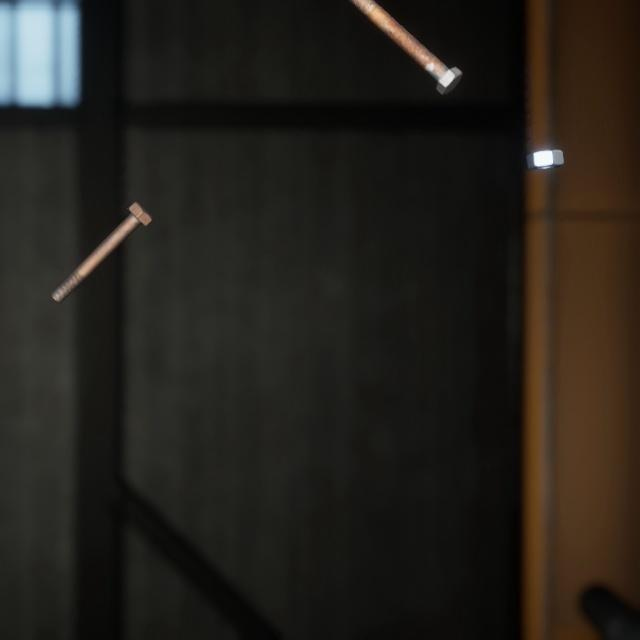bolt: (46, 180, 158, 292), (351, 0, 466, 91)
nut: (522, 131, 568, 160)
